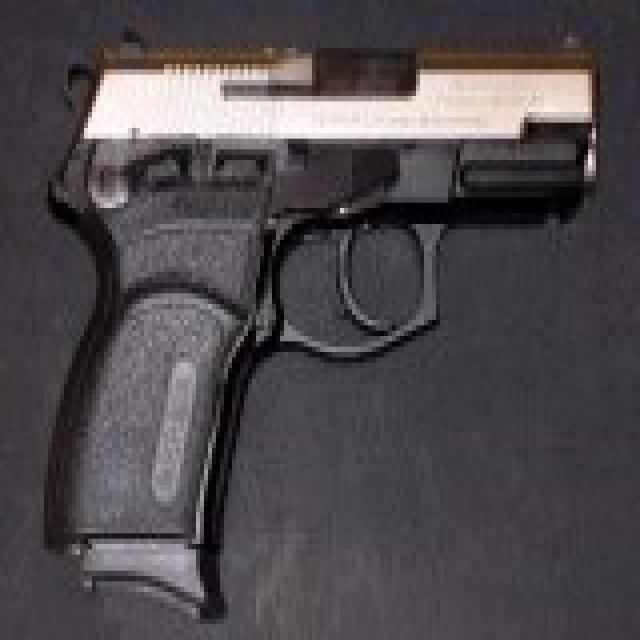Gun: (55, 23, 612, 609)
